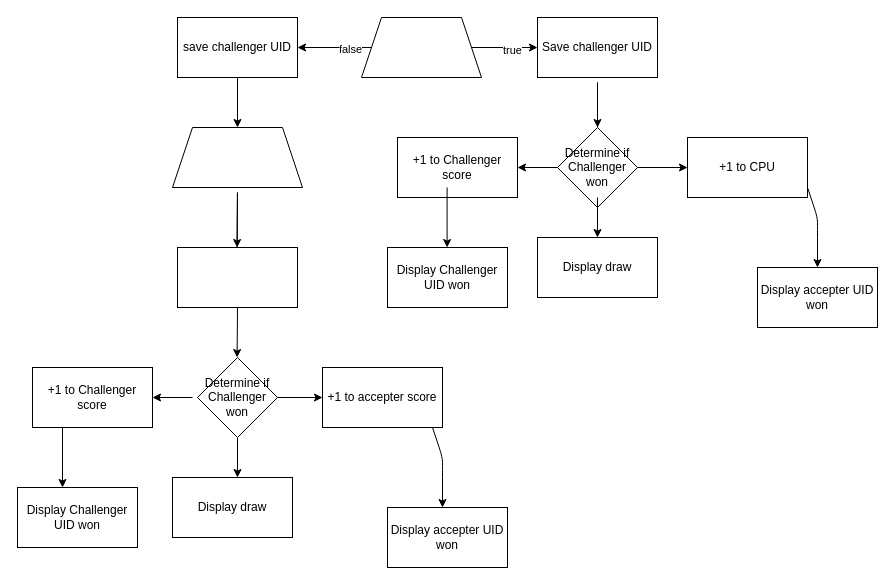
The diagram is 895 pixels wide and 585 high, and some of its shapes have lost their labels. Each missing label, with the box of its shape:
Accepter *rps X Challenger UID: (172, 126, 302, 188)
Challenger = *rps X CPU: (360, 16, 482, 78)
Save accepter UID: (176, 246, 298, 308)
